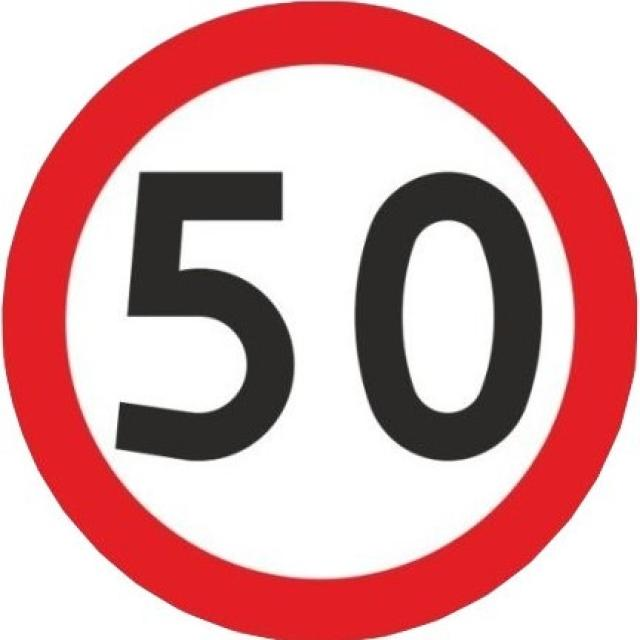Speed Limit -50-: (110, 168, 546, 466)
